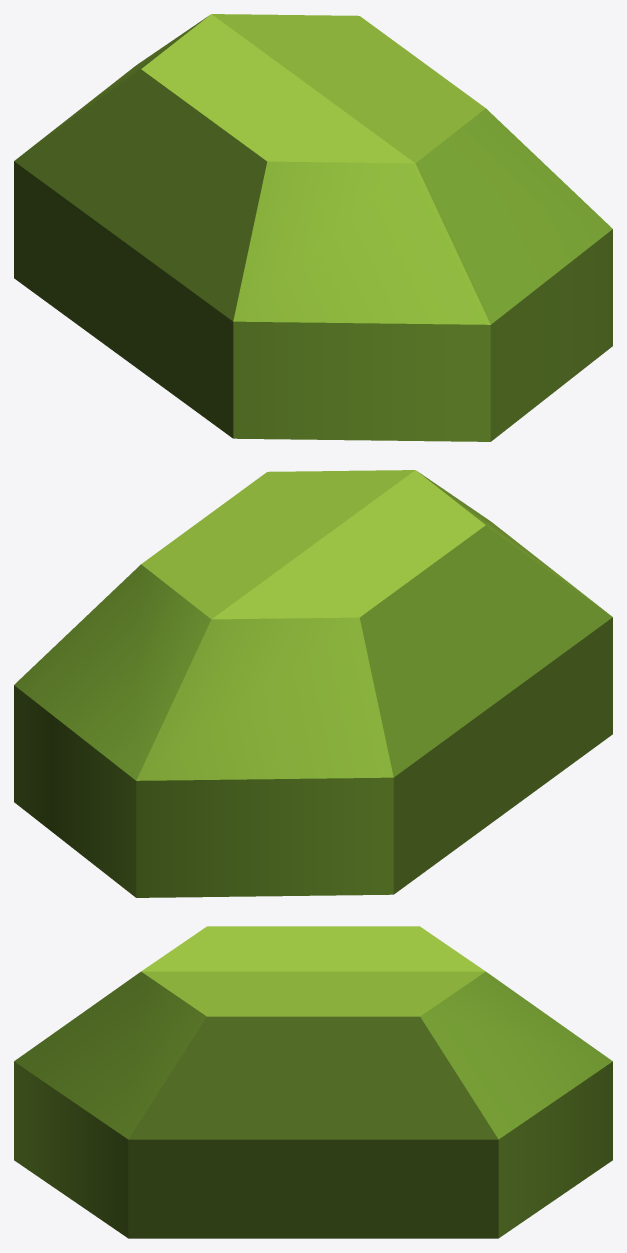
File: ST_Prop_Gem_03.fbx
3 views of the same model, one above another, from view 1: azimuth 30°, elevation 25°; view 2: azimuth 150°, elevation 25°; view 3: azimuth 270°, elevation 25° (orthographic). The views are drawn at different scales.
Visible parts, largest first — view 1: ST_Prop_Gem_03; view 2: ST_Prop_Gem_03; view 3: ST_Prop_Gem_03.
Part boxes in pixels (bbox=[...]): ST_Prop_Gem_03: bbox=[14, 14, 612, 441]; ST_Prop_Gem_03: bbox=[14, 470, 612, 897]; ST_Prop_Gem_03: bbox=[14, 926, 612, 1238].
Size of the model in its own units: 0.3151 by 0.1772 by 0.5096.
